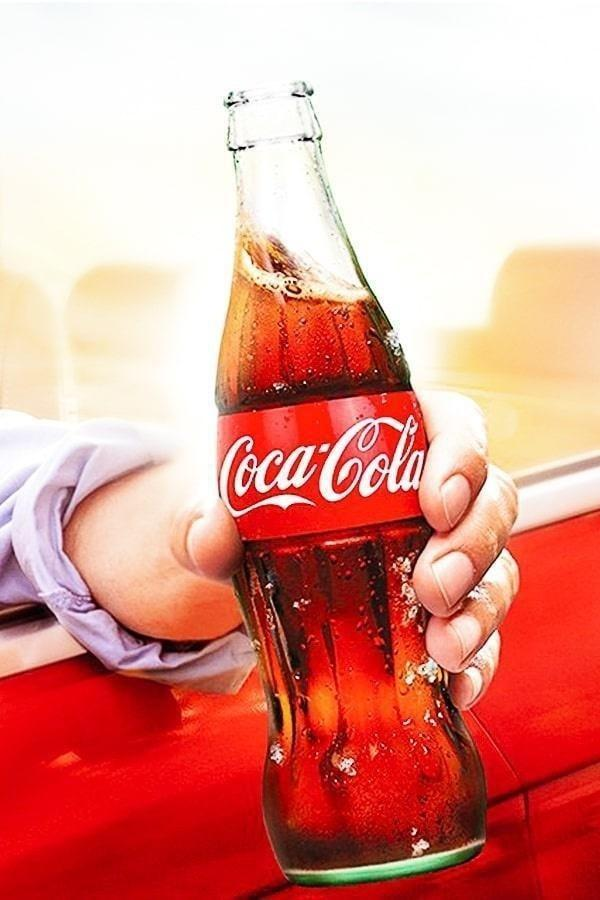bottle-glass: (205, 65, 486, 882)
